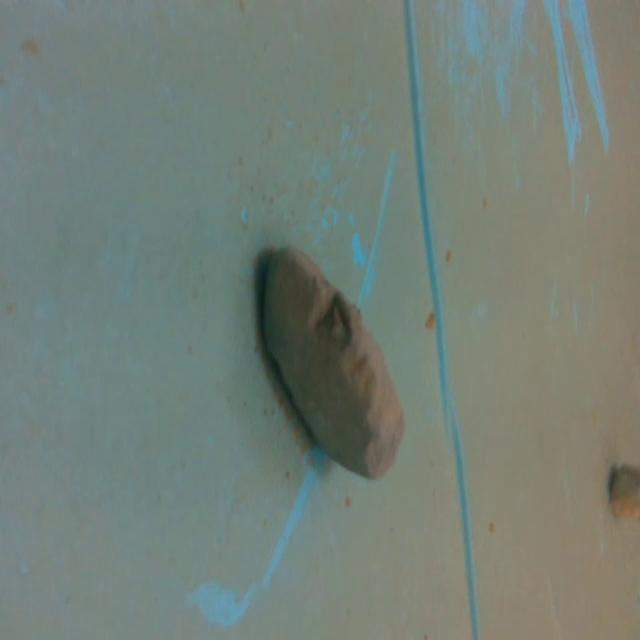rock: (255, 238, 413, 483)
